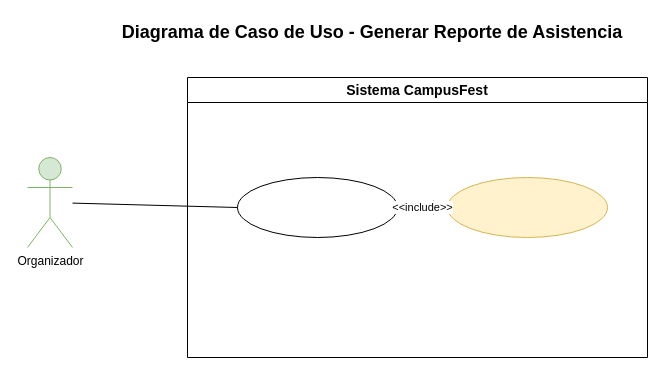
This 665x375 diagram has some shape labels left out. The centre of each missing label's shape, as x and y in pixels:
"Buscar / Consultar evento" belongs at pixel 527 207.
"Generar reporte de asistencia" belongs at pixel 317 207.
